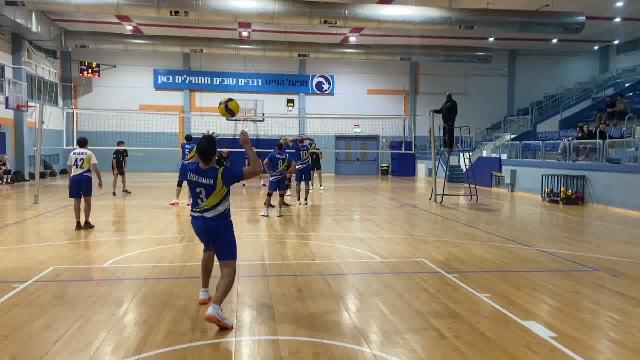ball: (215, 92, 241, 120)
